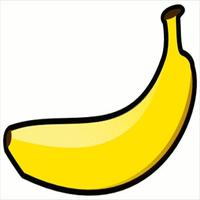banane: (7, 1, 199, 195)
